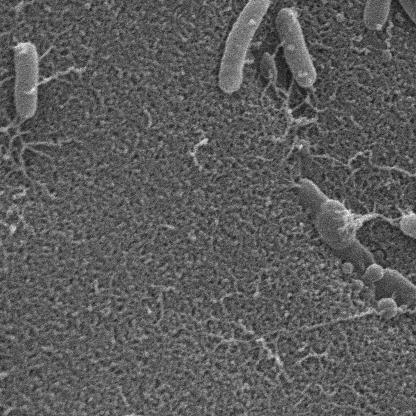cell2cell: (344, 216, 403, 234)
cell2surface: (272, 306, 416, 350), (29, 65, 77, 95), (0, 406, 107, 416)
regular: (299, 180, 372, 272), (217, 0, 269, 95), (276, 11, 315, 89), (376, 273, 416, 325), (14, 43, 35, 121), (362, 0, 397, 32), (403, 214, 416, 266)
spheroplast: (317, 204, 355, 248), (397, 0, 416, 32)
